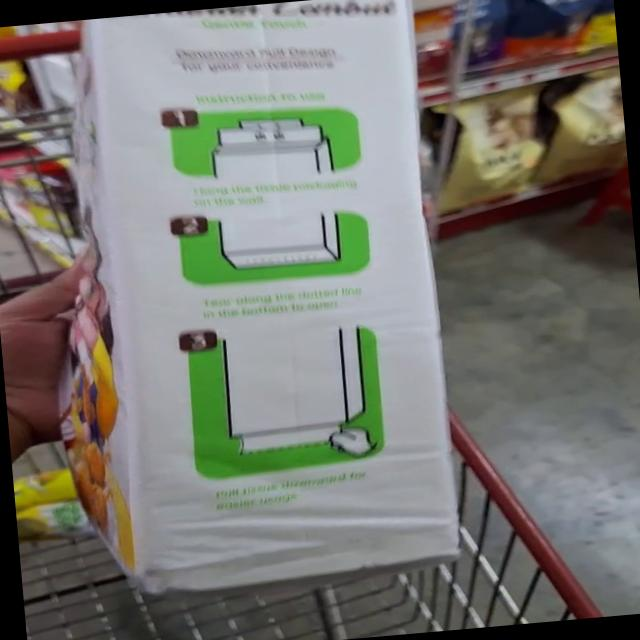Tisu: (38, 235, 499, 614), (60, 0, 458, 293)
